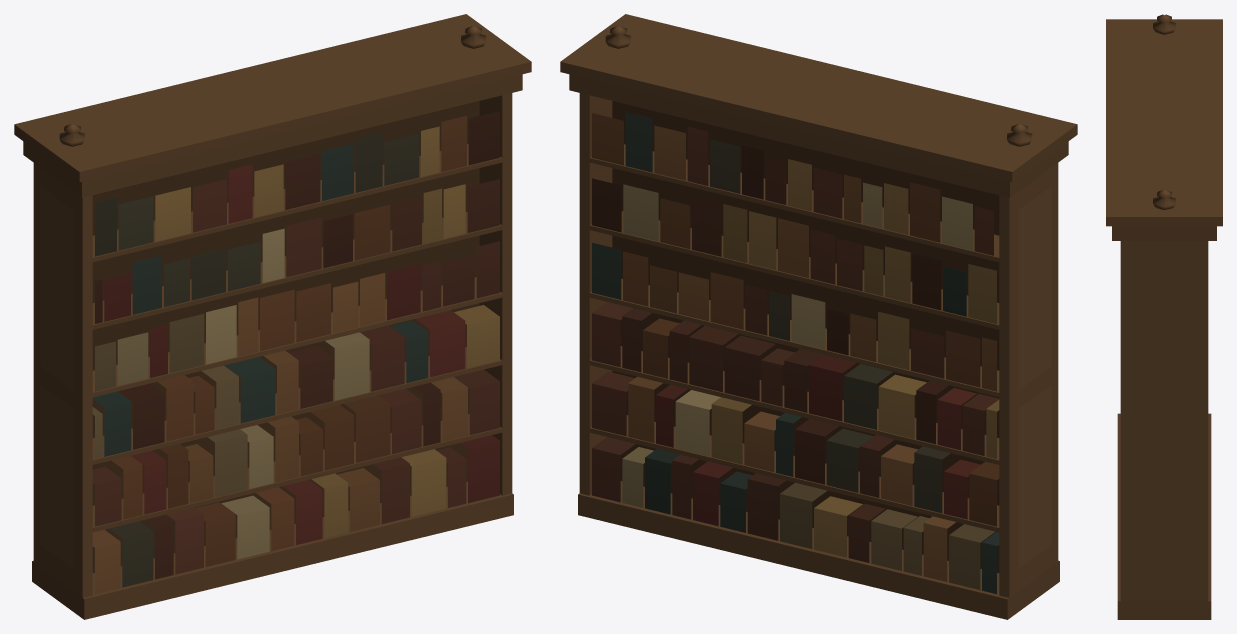
File: bookcase.double_tall.oak.glb
3 renders of one model, left to right at view 1: azimuth 30°, elevation 25°; view 2: azimuth 150°, elevation 25°; view 3: azimuth 270°, elevation 25°, orthographic. The views are drawn at different scales.
Parts seen in each view (by area): view 1: bookcase_double_tall_oak; view 2: bookcase_double_tall_oak; view 3: bookcase_double_tall_oak.
Part boxes in pixels (box(x1,y1,x2,y2)): bookcase_double_tall_oak: box(14, 14, 531, 619); bookcase_double_tall_oak: box(560, 14, 1077, 619); bookcase_double_tall_oak: box(1106, 14, 1222, 619).
Size of what is drawn, in the model's own units: 3.2 by 3.2 by 0.8.
